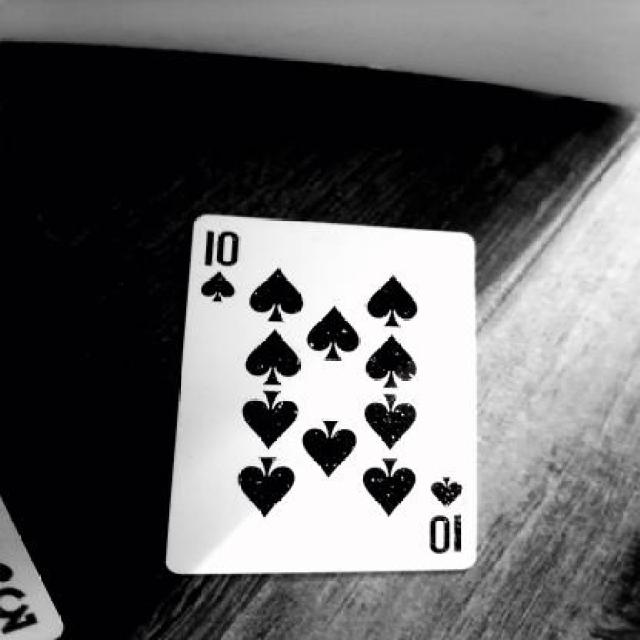10S: (421, 464, 482, 564), (198, 220, 257, 318)
